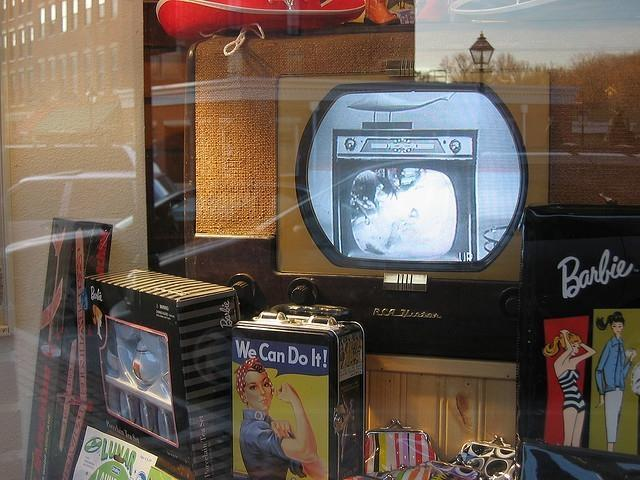car: (7, 170, 136, 247), (152, 160, 196, 250)
